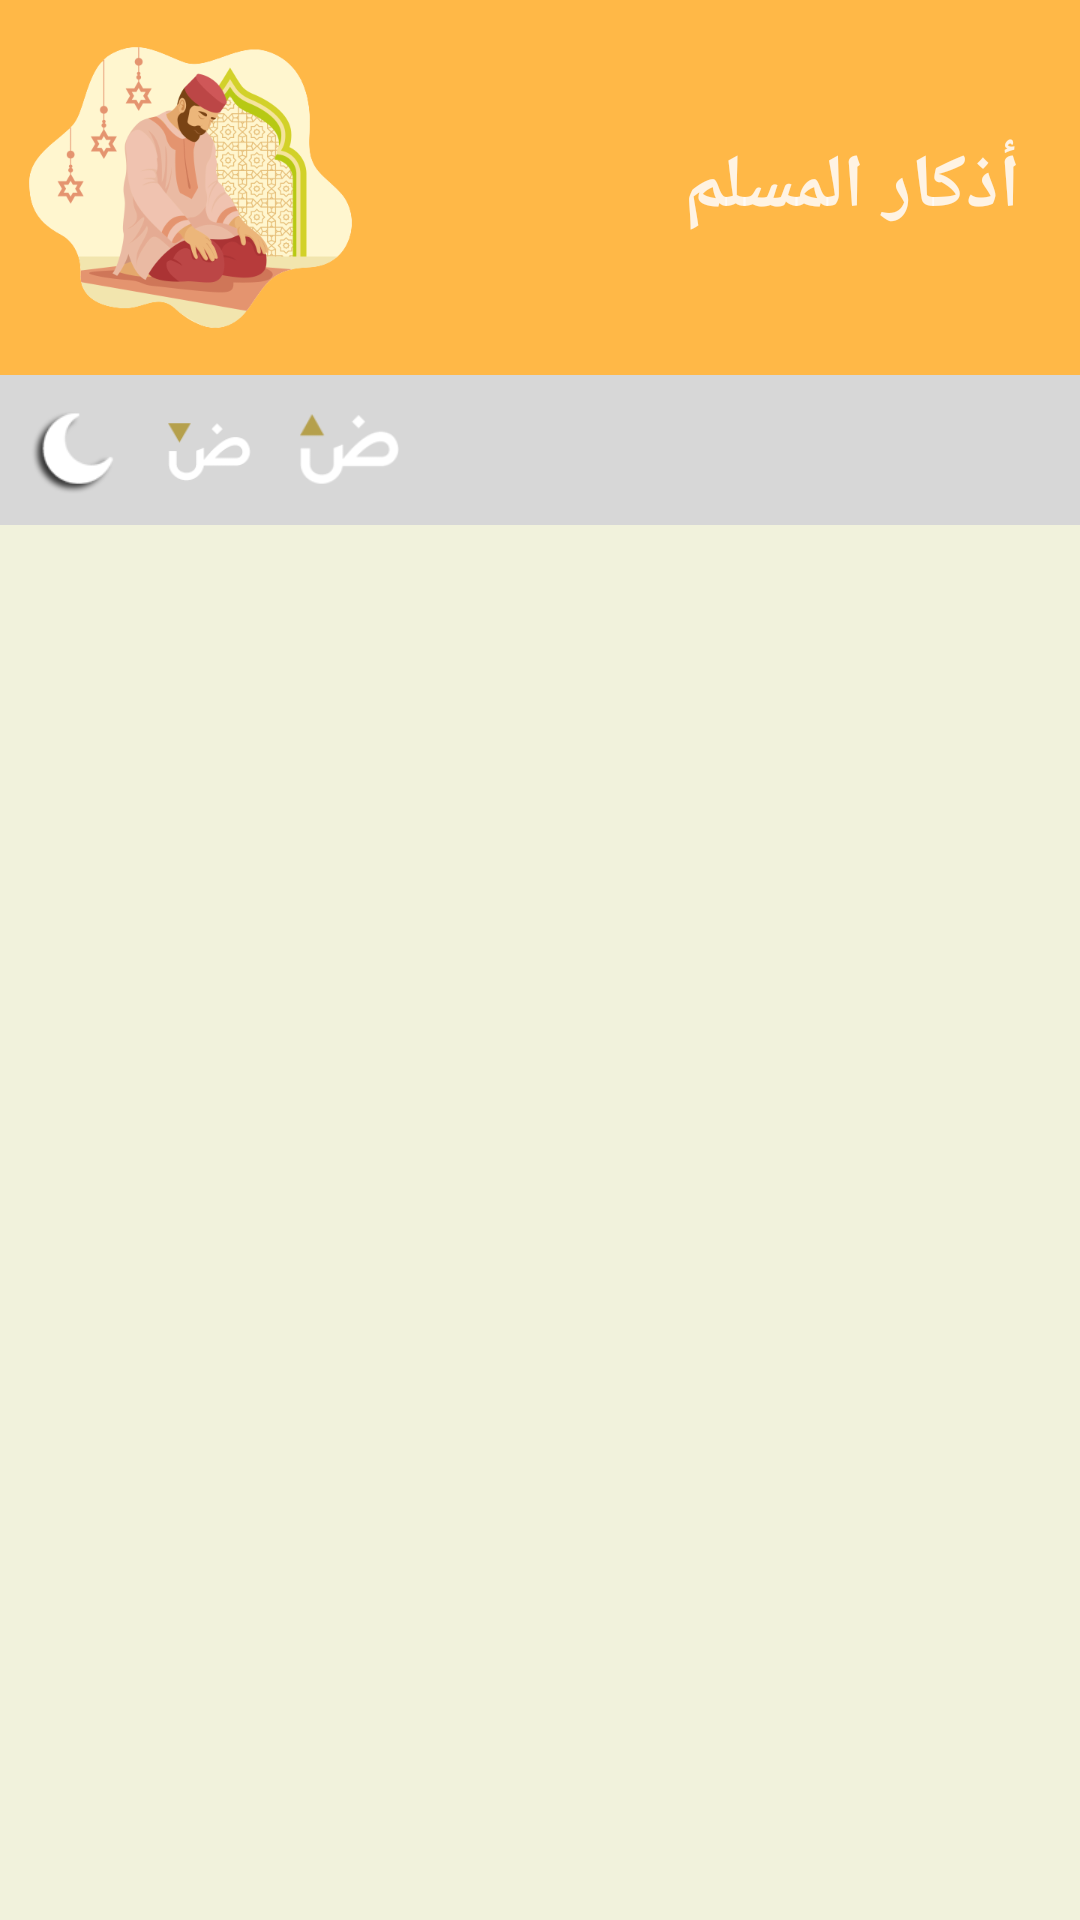

Icon bounding boxes for this 1080 × 1920 phone screenshot, format (x1, y1, x2, y2):
decrease size: (168, 423, 250, 480)
increase size: (300, 414, 398, 484)
